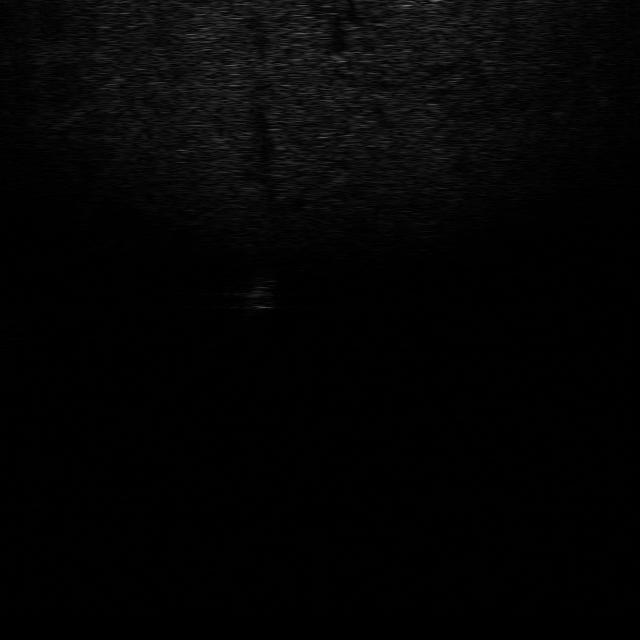human body: (240, 268, 274, 320)
